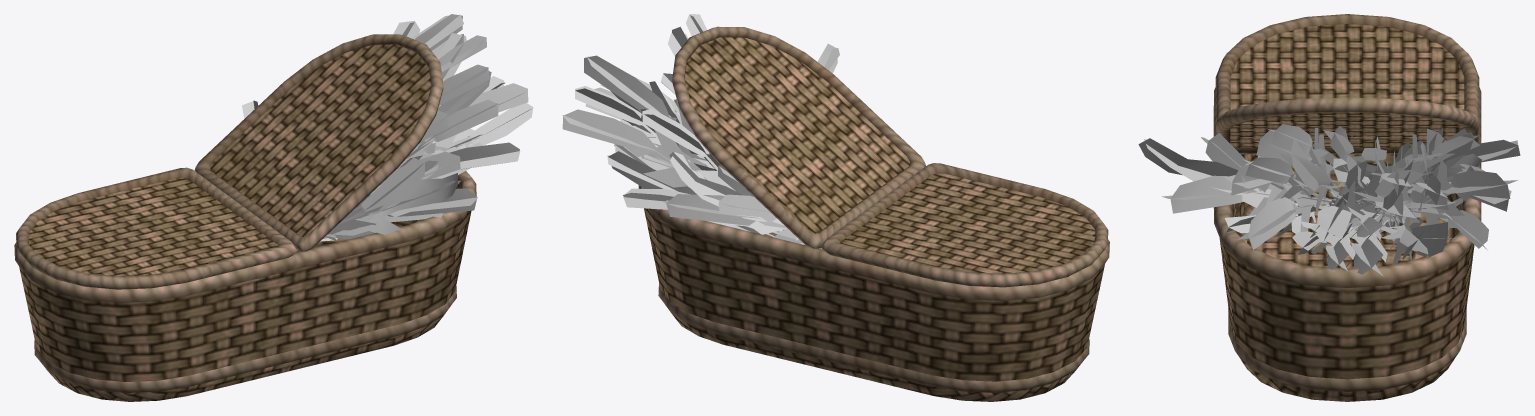
The model's file is village_wicker_basket_with_plants_01.fbx.
3 renders of one model, left to right at view 1: azimuth 30°, elevation 25°; view 2: azimuth 150°, elevation 25°; view 3: azimuth 270°, elevation 25°, orthographic. The views are drawn at different scales.
Parts seen in each view (by area): view 1: village_wicker_basket_with_plants_01; view 2: village_wicker_basket_with_plants_01; view 3: village_wicker_basket_with_plants_01.
Part boxes in pixels (left/top/right/bottom): village_wicker_basket_with_plants_01: left=14, top=14, right=533, bottom=401; village_wicker_basket_with_plants_01: left=562, top=14, right=1109, bottom=401; village_wicker_basket_with_plants_01: left=1138, top=14, right=1520, bottom=401.
Size of the model in its own units: 130 by 62.27 by 72.33.
